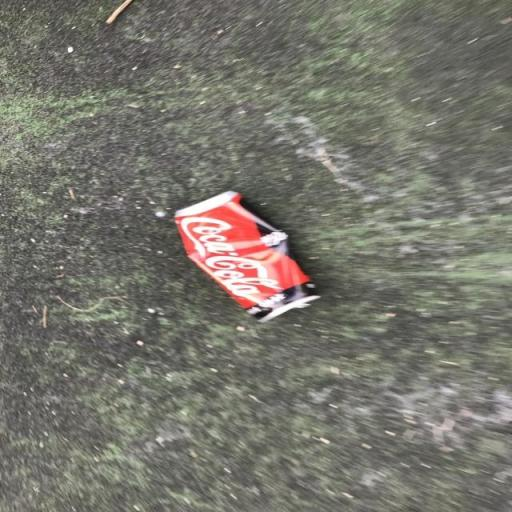metal: (160, 182, 346, 344)
